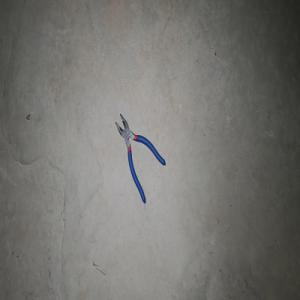Pliers: (115, 113, 165, 203)
